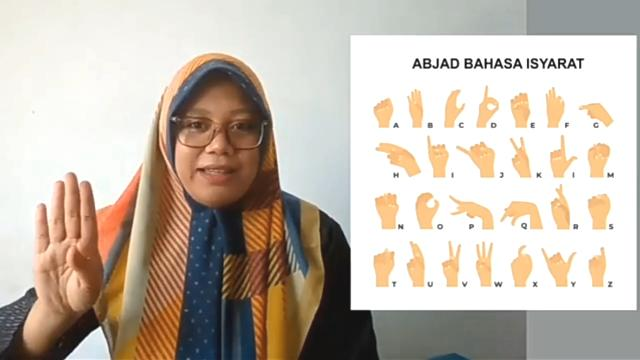B: (30, 170, 104, 318)
